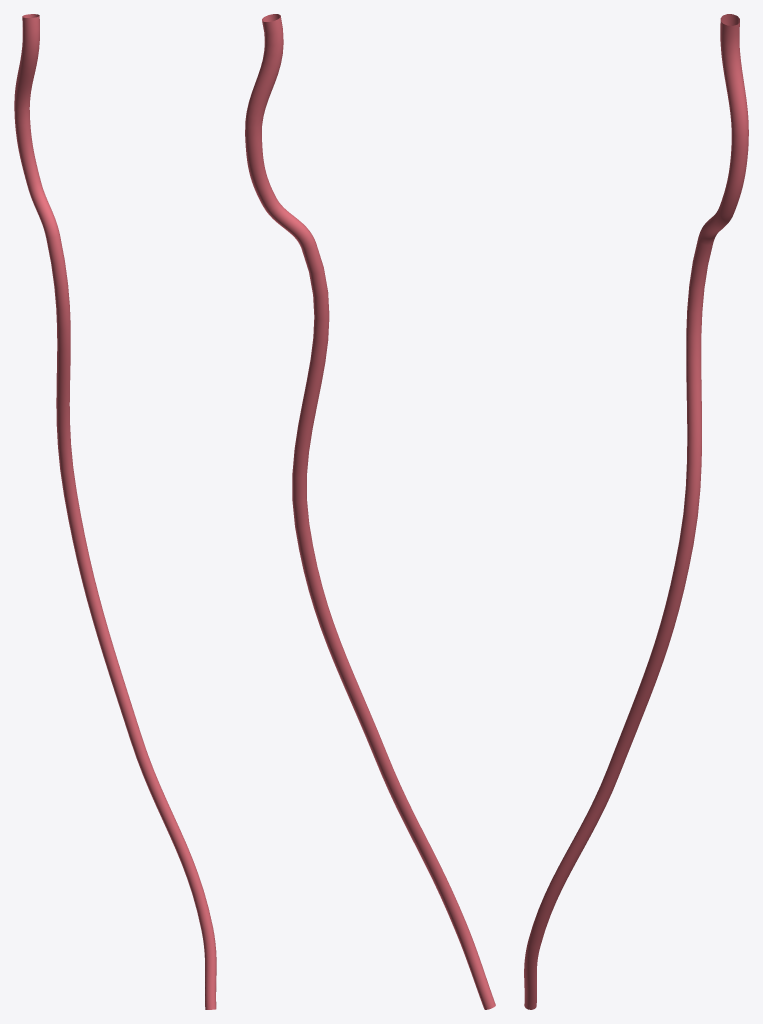
3 renders of one model, left to right at view 1: azimuth 90°, elevation 25°; view 2: azimuth 150°, elevation 25°; view 3: azimuth 270°, elevation 25°, orthographic. The views are drawn at different scales.
Visible parts, largest first — view 1: ZA_321b1f64ea125408; view 2: ZA_321b1f64ea125408; view 3: ZA_321b1f64ea125408.
Boxes of the visible parts, x1,y1,x2,y2 form: ZA_321b1f64ea125408: [14, 14, 216, 1009]; ZA_321b1f64ea125408: [245, 14, 495, 1009]; ZA_321b1f64ea125408: [524, 14, 748, 1009].
Size of the model in its own units: 0.0339 by 0.231 by 0.0449.
